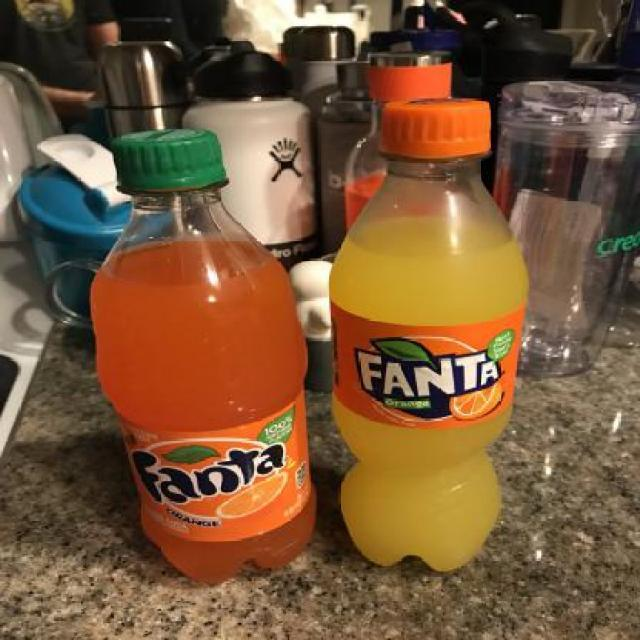Fanta: (89, 127, 320, 579), (322, 90, 536, 570)
